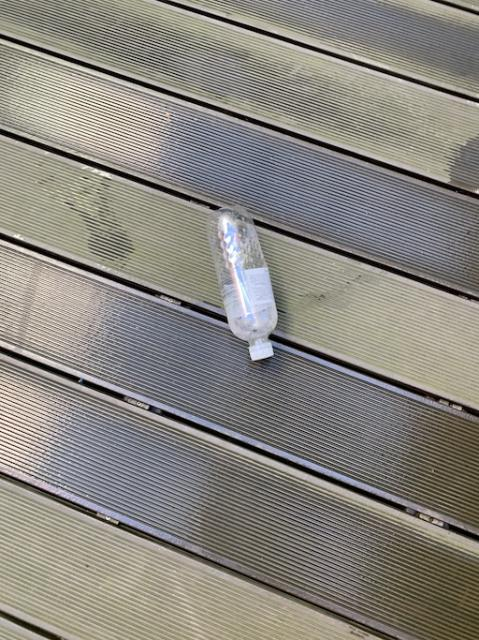plastic: (206, 205, 276, 359)
